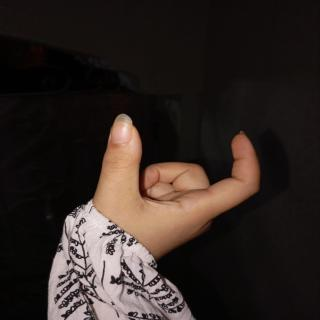NOON: (80, 102, 276, 259)
